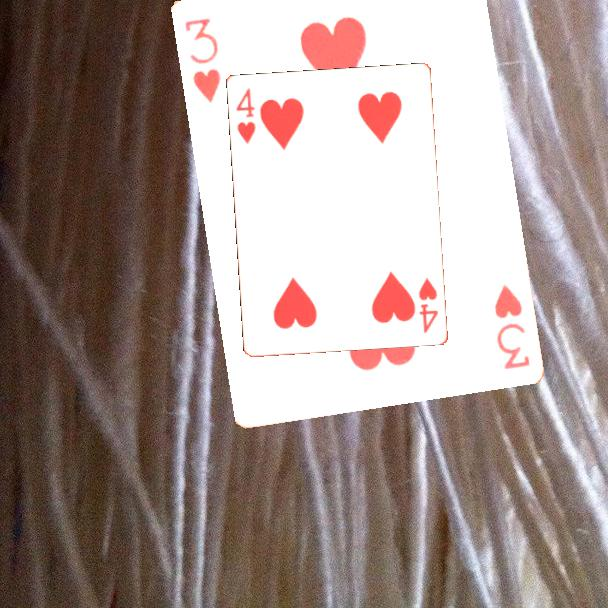h03: (180, 14, 223, 105), (490, 281, 532, 372)
h04: (233, 85, 259, 147), (416, 274, 441, 336)
